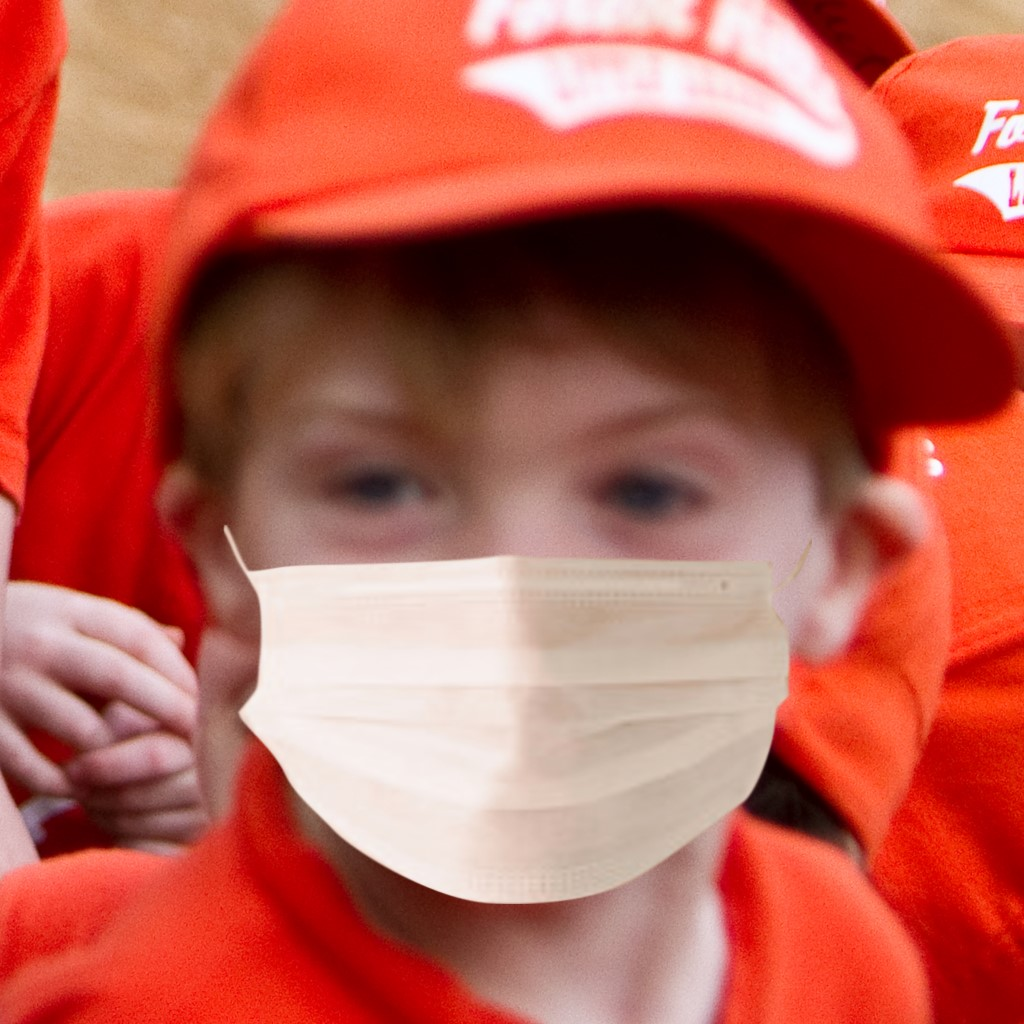con_mascara: (220, 229, 882, 922)
